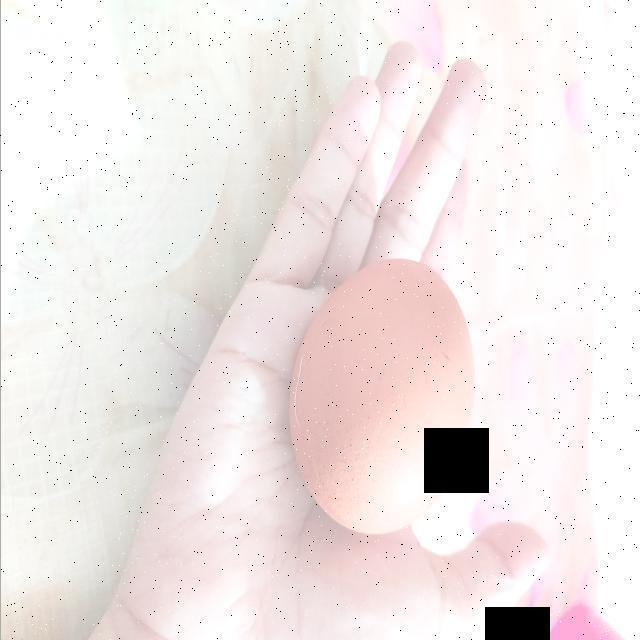egg: (282, 254, 478, 536)
